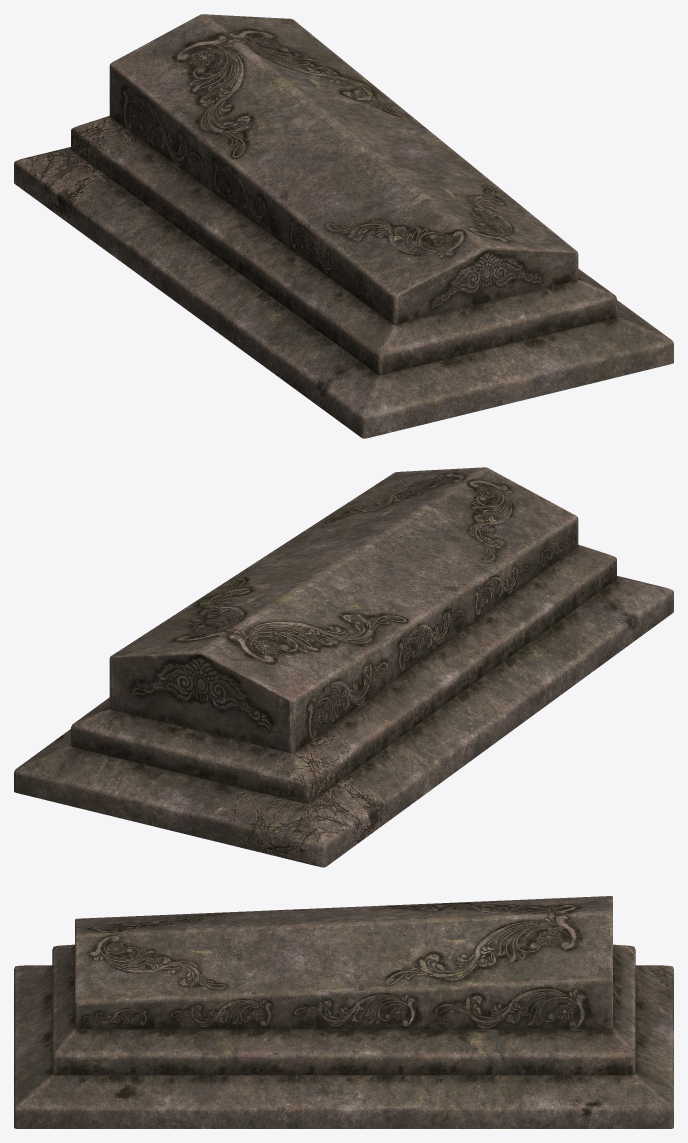
Rendered from SM_tombstone_19.fbx.
3 renders of one model, top to bottom at view 1: azimuth 30°, elevation 25°; view 2: azimuth 150°, elevation 25°; view 3: azimuth 270°, elevation 25°, orthographic. The views are drawn at different scales.
Visible parts, largest first — view 1: SM_tombstone_019; view 2: SM_tombstone_019; view 3: SM_tombstone_019.
Boxes of the visible parts, left/top/right/bottom form: SM_tombstone_019: left=14, top=14, right=673, bottom=438; SM_tombstone_019: left=14, top=467, right=673, bottom=867; SM_tombstone_019: left=14, top=896, right=673, bottom=1128.
Bounding box in the file's own units: 110 × 51.97 × 214.
